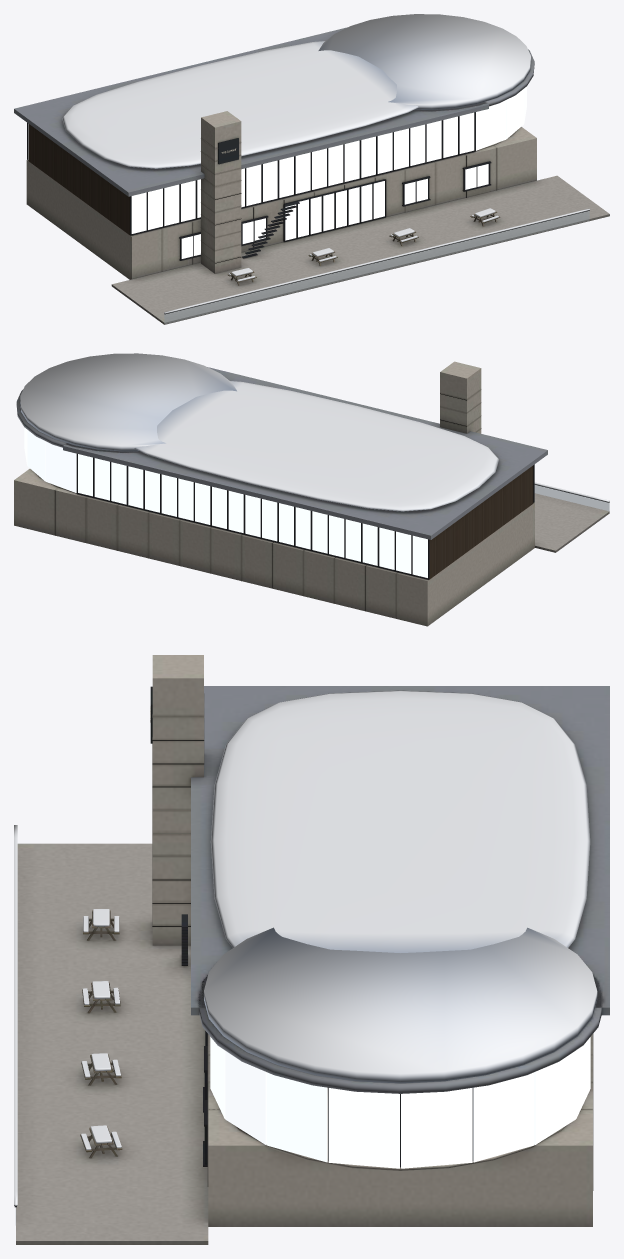
The model's file is the_summit.glb.
The picture shows the model from 3 angles, top to bottom: view 1: azimuth 30°, elevation 25°; view 2: azimuth 150°, elevation 25°; view 3: azimuth 270°, elevation 25°; orthographic projection. The views are drawn at different scales.
Parts seen in each view (by area): view 1: the_summit, the_summit_snow, the_summit_lit, the_summit_glass; view 2: the_summit, the_summit_snow, the_summit_lit, the_summit_glass; view 3: the_summit_snow, the_summit, the_summit_lit.
Part boxes in pixels (x1,y1,x2,y2): the_summit: (14,27,609,324); the_summit_snow: (62,14,590,313); the_summit_lit: (28,86,526,258); the_summit_glass: (164,211,589,323); the_summit: (14,361,609,626); the_summit_snow: (20,353,609,511); the_summit_lit: (24,427,427,577); the_summit_glass: (534,485,609,511); the_summit_snow: (14,690,597,1205); the_summit: (14,655,609,1244); the_summit_lit: (210,1037,590,1168).
Bounding box in the file's own units: 45.5 × 14.31 × 27.89.
5 materials, 1 textured.
